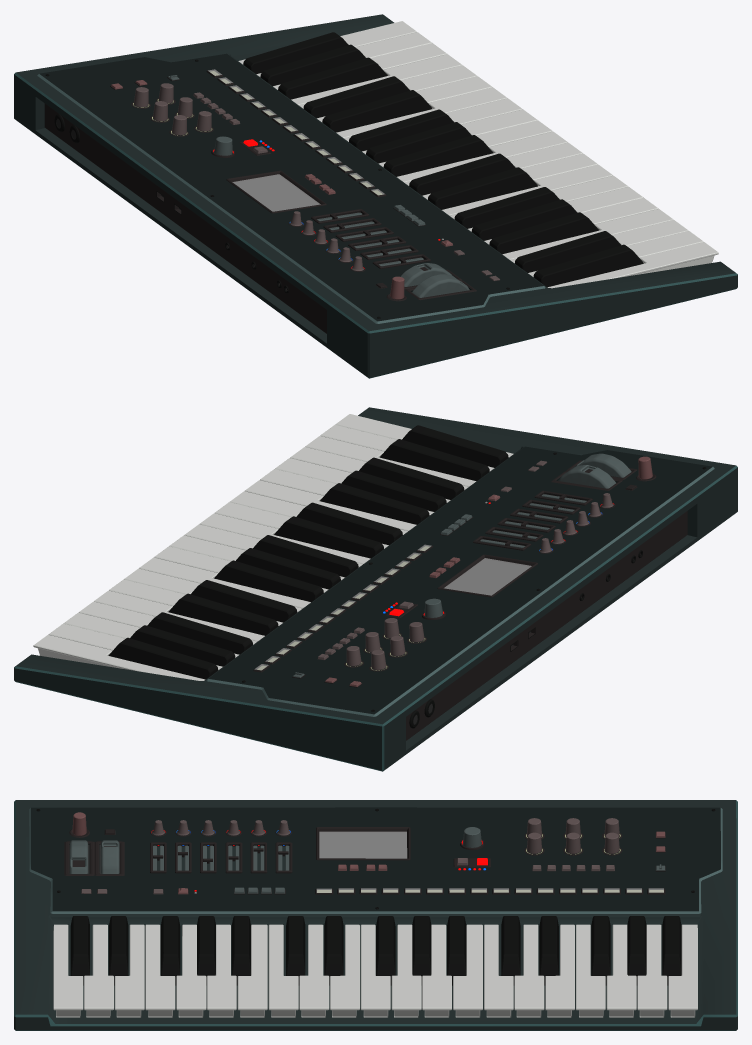
Rendered from synth.fbx.
3 views of the same model, one above another, from view 1: azimuth 30°, elevation 25°; view 2: azimuth 150°, elevation 25°; view 3: azimuth 270°, elevation 25° (orthographic).
Parts seen in each view (by area): view 1: pCube226; view 2: pCube226; view 3: pCube226.
Part boxes in pixels (left/top/right/bottom): pCube226: left=14, top=14, right=737, bottom=378; pCube226: left=14, top=407, right=737, bottom=771; pCube226: left=14, top=800, right=737, bottom=1030.
Size of the model in its own units: 24.63 by 4.05 by 40.94.
